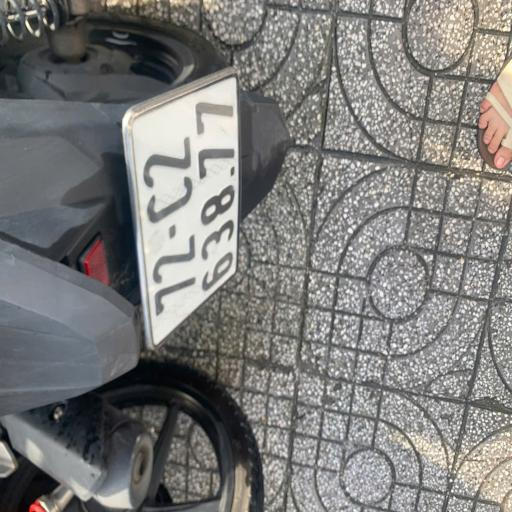2: (142, 135, 196, 187), (149, 237, 200, 282)
3: (197, 222, 255, 262)
6: (203, 251, 253, 295)
7: (194, 96, 242, 148), (152, 276, 198, 316), (196, 145, 245, 181)
8: (198, 184, 242, 227)
C: (144, 177, 198, 226)
